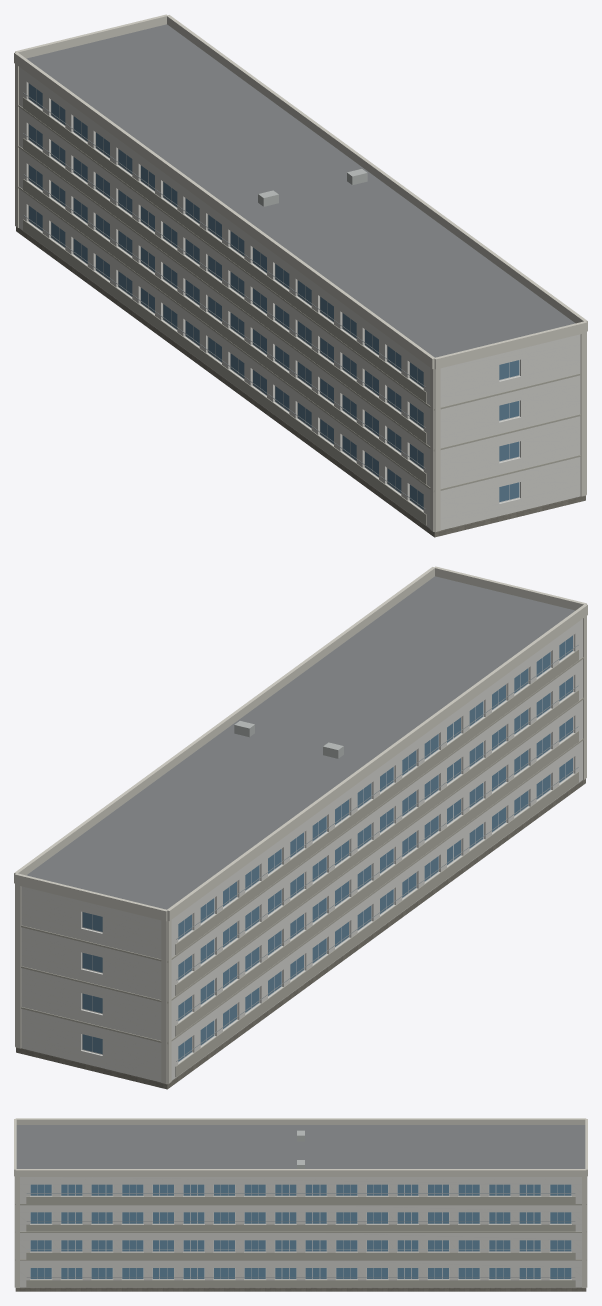
3 views of the same model, one above another, from view 1: azimuth 30°, elevation 25°; view 2: azimuth 150°, elevation 25°; view 3: azimuth 270°, elevation 25° (orthographic). The views are drawn at different scales.
Parts seen in each view (by area): view 1: west-b__roof, west-b__white, west-b__band, west-b__sideglass, west-b__cap, west-b__frame, west-b__stone, west-b__steel; view 2: west-b__roof, west-b__white, west-b__band, west-b__sideglass, west-b__cap, west-b__frame, west-b__stone, west-b__steel; view 3: west-b__white, west-b__roof, west-b__band, west-b__glass, west-b__cap, west-b__frame, west-b__stone, west-b__steel.
Part boxes in pixels (x1=…): west-b__roof: x1=26, y1=24, x2=575, y2=357; west-b__white: x1=19, y1=67, x2=580, y2=530; west-b__band: x1=18, y1=97, x2=580, y2=525; west-b__sideglass: x1=29, y1=83, x2=519, y2=509; west-b__cap: x1=14, y1=14, x2=587, y2=532; west-b__frame: x1=28, y1=83, x2=519, y2=510; west-b__stone: x1=16, y1=227, x2=585, y2=537; west-b__steel: x1=23, y1=92, x2=425, y2=509; west-b__roof: x1=26, y1=576, x2=575, y2=909; west-b__white: x1=21, y1=619, x2=582, y2=1082; west-b__band: x1=21, y1=649, x2=583, y2=1077; west-b__sideglass: x1=82, y1=635, x2=572, y2=1061; west-b__cap: x1=14, y1=566, x2=587, y2=1084; west-b__frame: x1=82, y1=635, x2=573, y2=1062; west-b__stone: x1=16, y1=779, x2=585, y2=1089; west-b__steel: x1=176, y1=644, x2=578, y2=1061; west-b__white: x1=20, y1=1177, x2=581, y2=1287; west-b__roof: x1=16, y1=1125, x2=585, y2=1168; west-b__band: x1=15, y1=1196, x2=586, y2=1287; west-b__glass: x1=30, y1=1184, x2=571, y2=1278; west-b__cap: x1=14, y1=1118, x2=587, y2=1287; west-b__frame: x1=30, y1=1184, x2=571, y2=1279; west-b__stone: x1=15, y1=1287, x2=586, y2=1291; west-b__steel: x1=26, y1=1193, x2=575, y2=1277.
Bounding box in the file's own units: 14.38 × 15.86 × 67.38.
10 materials, 3 textured.
